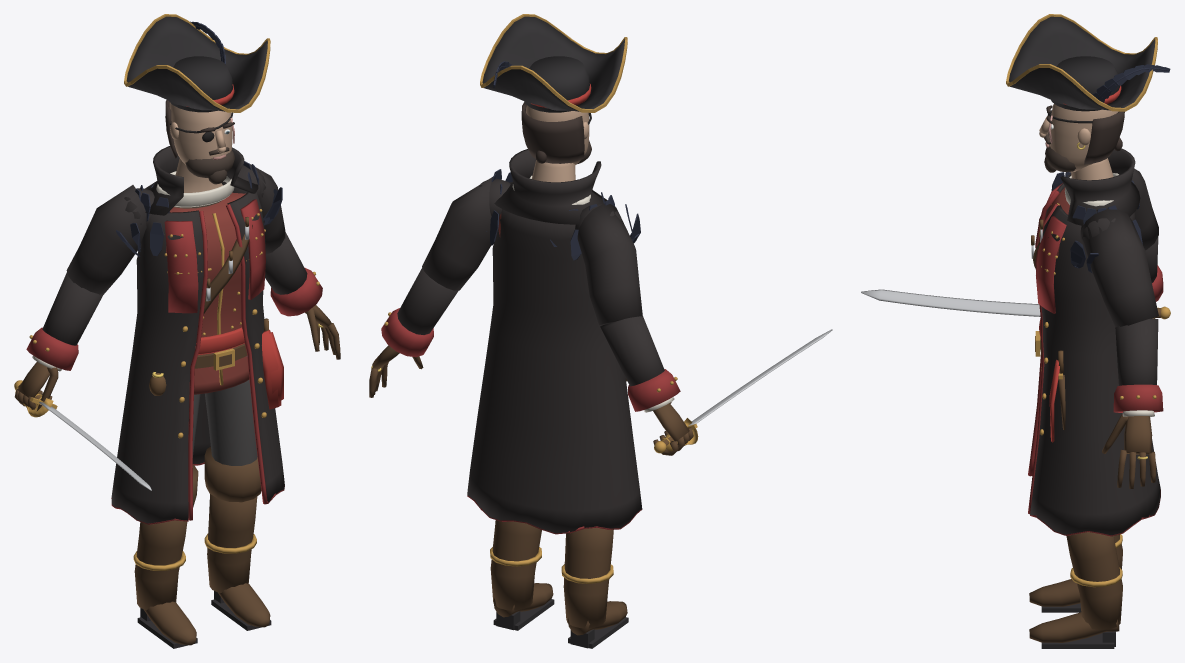
The picture shows the model from 3 angles, left to right: view 1: azimuth 30°, elevation 25°; view 2: azimuth 150°, elevation 25°; view 3: azimuth 270°, elevation 25°; orthographic projection.
Visible parts, largest first — view 1: alt_captain_rook__OW_Enemy_CaptainRook_MESH; view 2: alt_captain_rook__OW_Enemy_CaptainRook_MESH; view 3: alt_captain_rook__OW_Enemy_CaptainRook_MESH.
Part boxes in pixels (x1,y1,x2,y2): alt_captain_rook__OW_Enemy_CaptainRook_MESH: [14, 14, 340, 648]; alt_captain_rook__OW_Enemy_CaptainRook_MESH: [369, 14, 832, 648]; alt_captain_rook__OW_Enemy_CaptainRook_MESH: [861, 14, 1170, 648].
Size of the model in its own units: 1.23 by 2.11 by 1.01.
